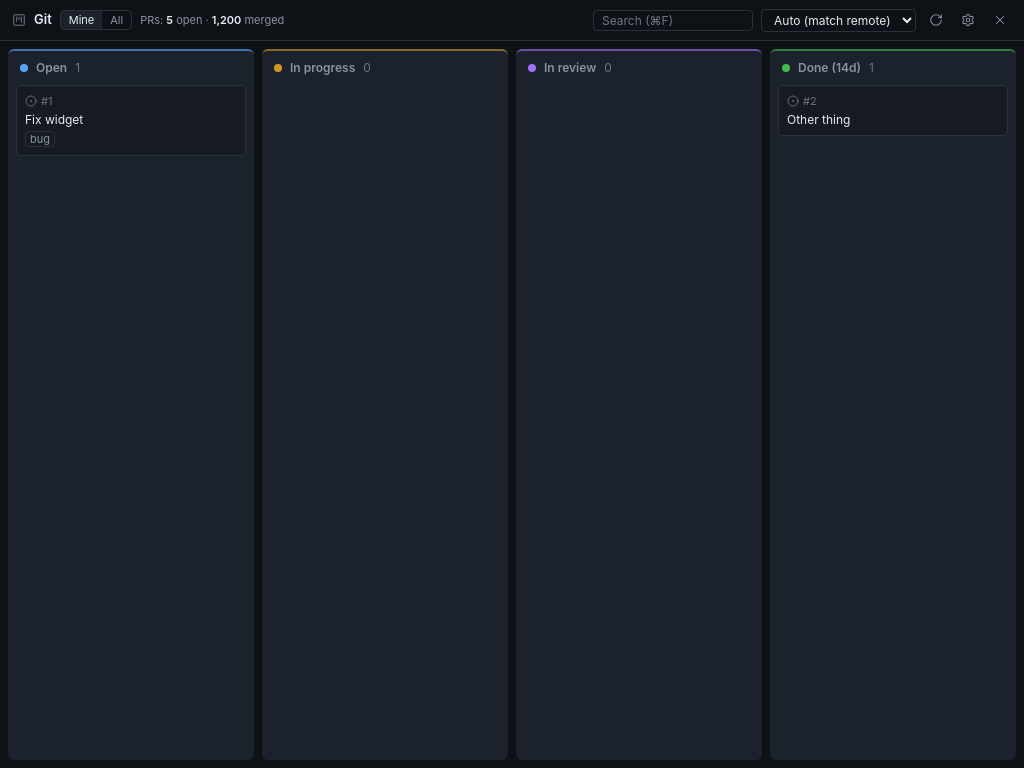
Test: GitBoard › filters every column by the search, focused with Cmd+F
Press f
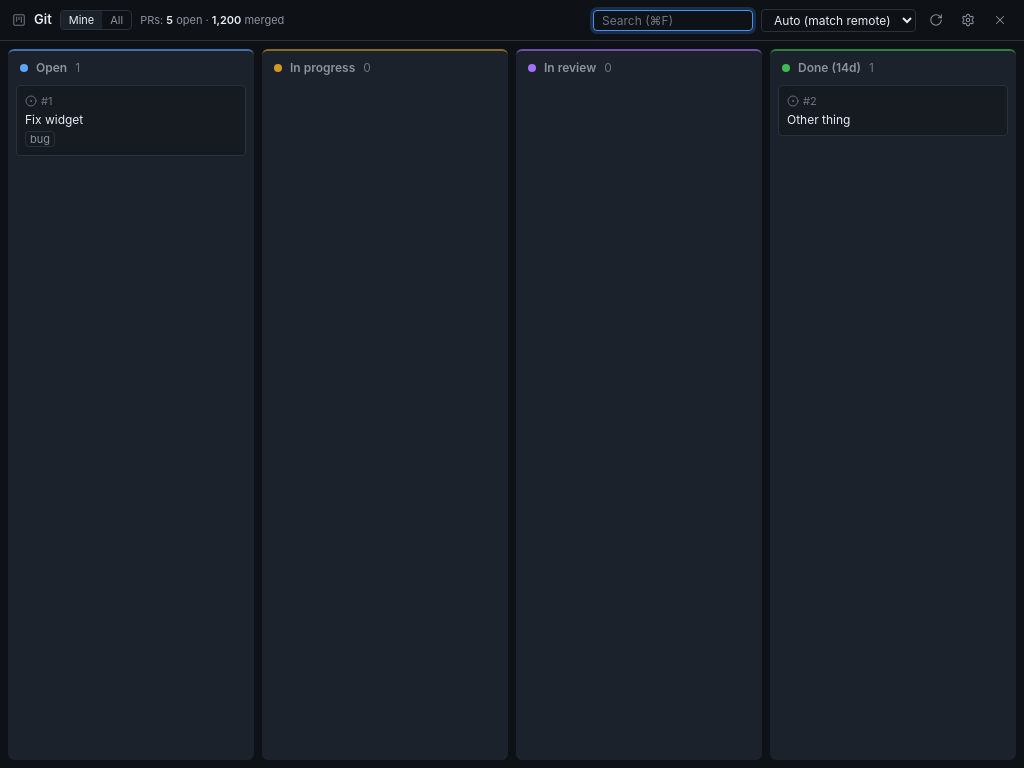
Type "BUG" into the search field named "Search board" at coordinates (673, 20), box [593,10,753,30]
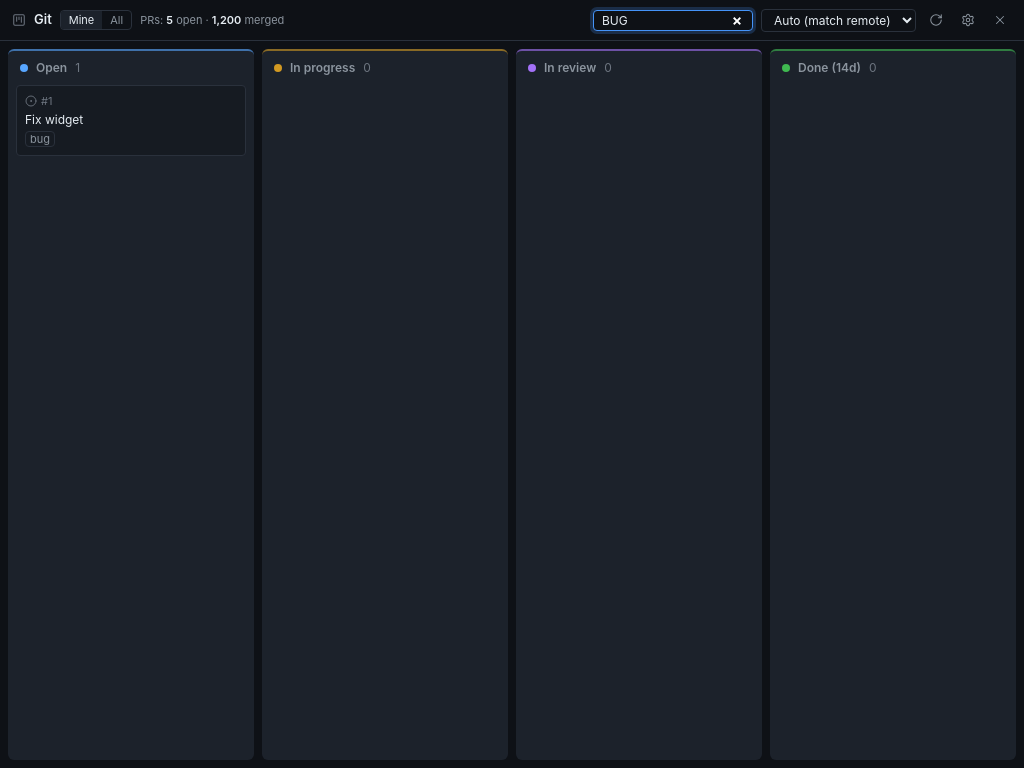
Expected: the text "Fix widget" is shown, [25,112,83,127]
Expected: the button "Other thing" is gone
Replace the text in the search field named "Search board" with "#2" at coordinates (673, 20), box [593,10,753,30]
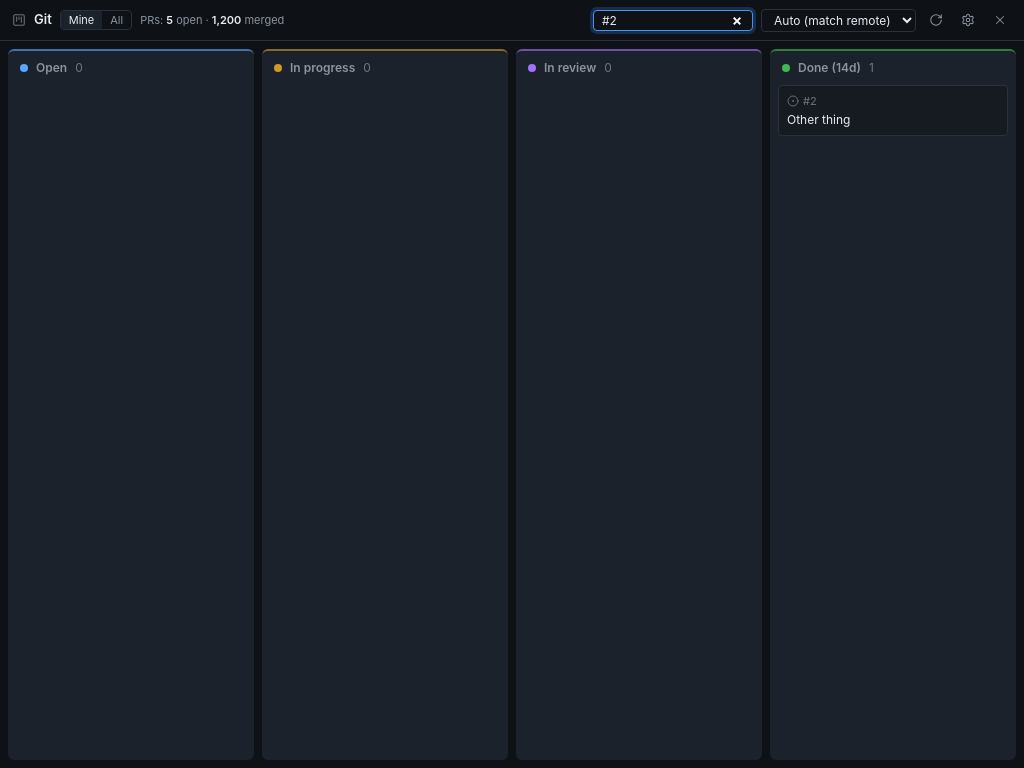
Expected: the button "Fix widget" is gone
Expected: the text "Other thing" is shown, [787,112,850,127]
Press Escape in the search field named "Search board", box [593,10,753,30]
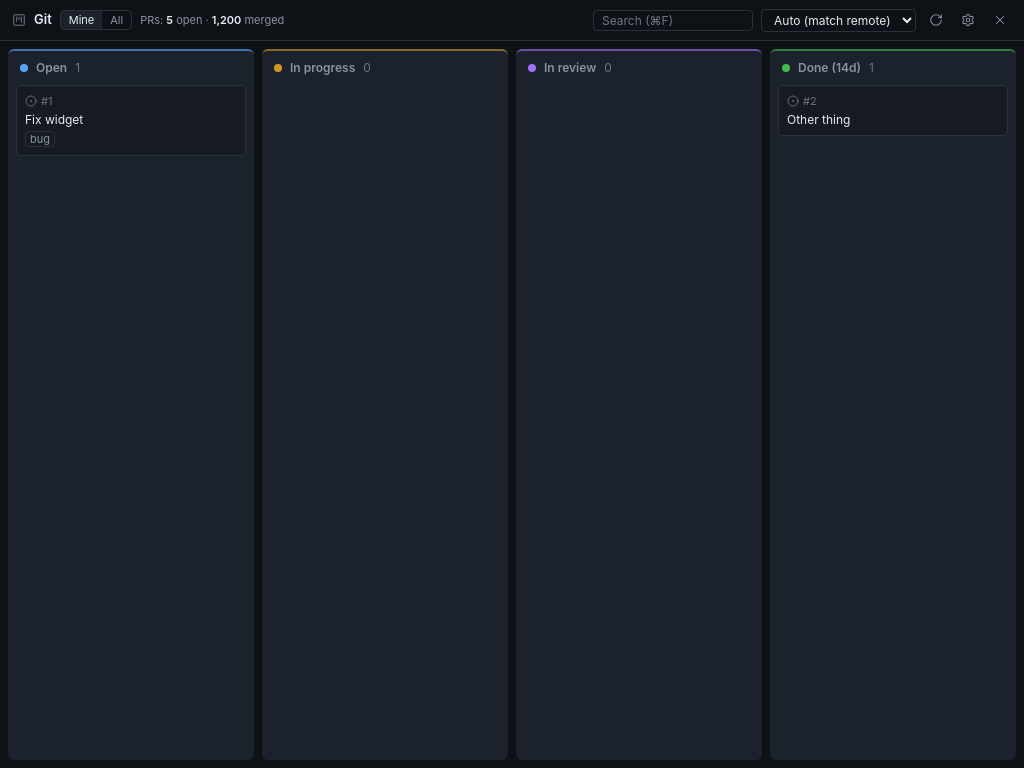
Expected: the text "Fix widget" is shown, [25,112,83,127]
